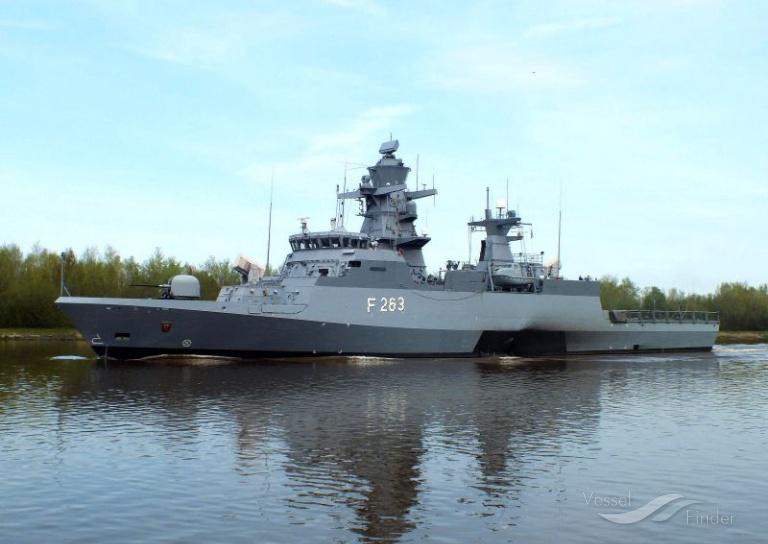OCR: (362, 290, 412, 323)
